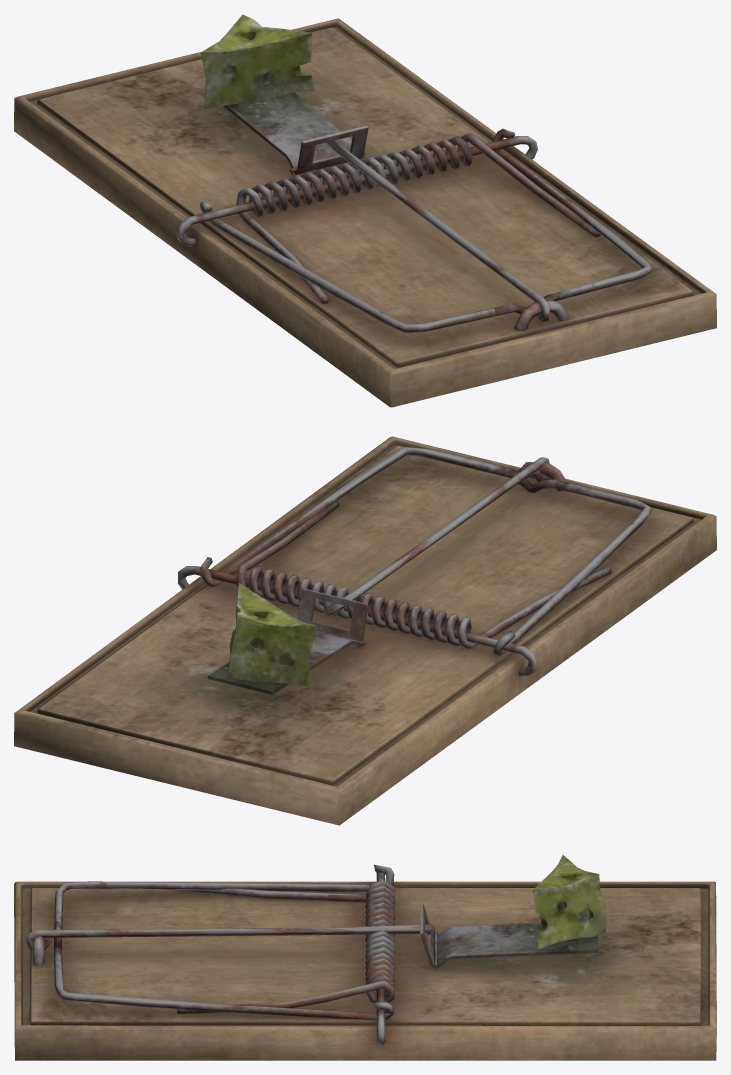
Rendered from props.glb.
3 views of the same model, one above another, from view 1: azimuth 30°, elevation 25°; view 2: azimuth 150°, elevation 25°; view 3: azimuth 270°, elevation 25° (orthographic). The views are drawn at different scales.
Visible parts, largest first — view 1: mousetrap; view 2: mousetrap; view 3: mousetrap.
Part boxes in pixels (x1,y1,x2,y2): mousetrap: (14, 14, 716, 407); mousetrap: (14, 436, 716, 825); mousetrap: (14, 855, 716, 1060).
Bounding box in the file's own units: 0.055 × 0.0179 × 0.1003.
Materials: 1 (1 with a texture image).
